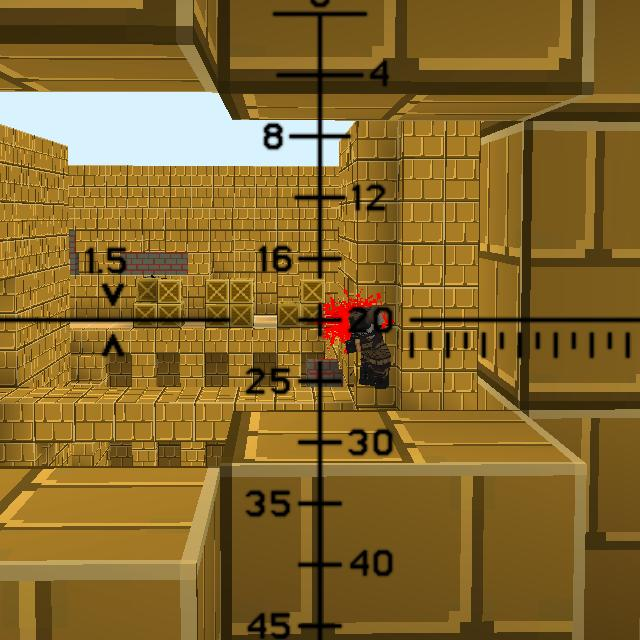enemy: (345, 304, 394, 391)
